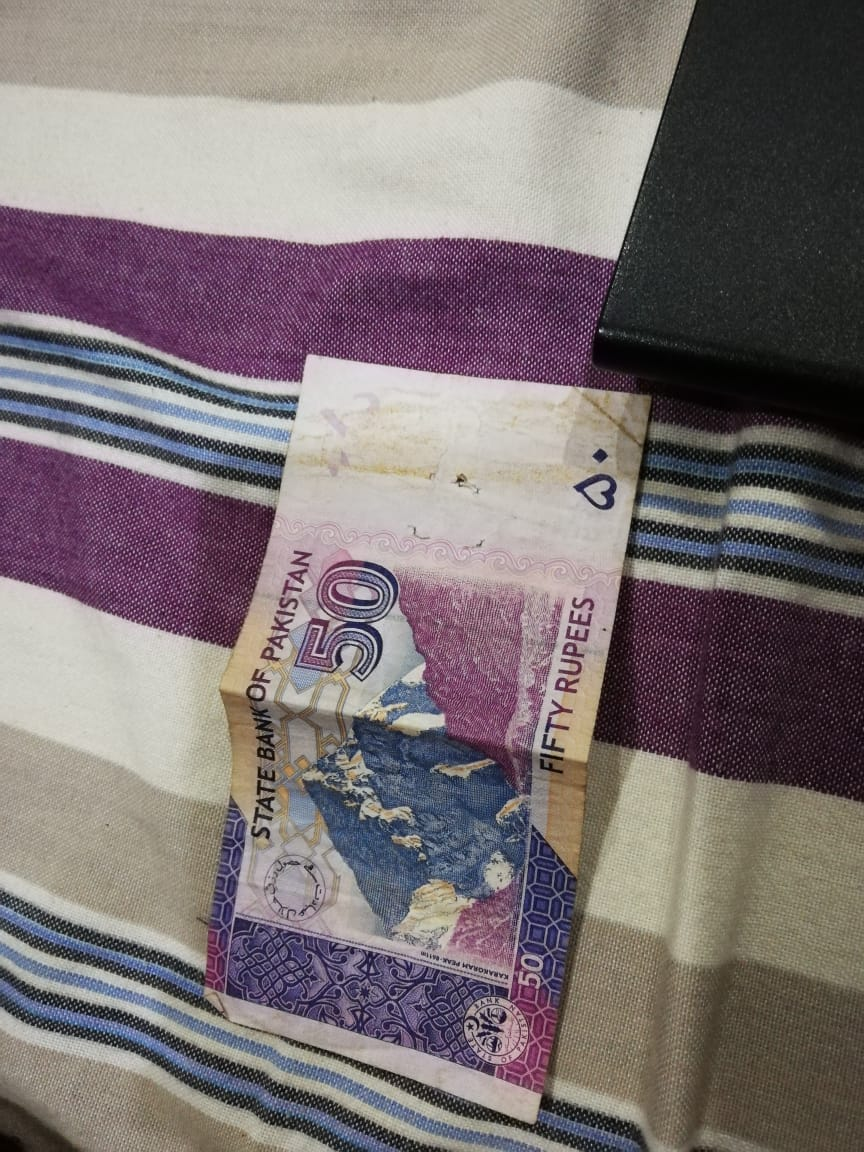50 rupee: (126, 328, 677, 1123)
